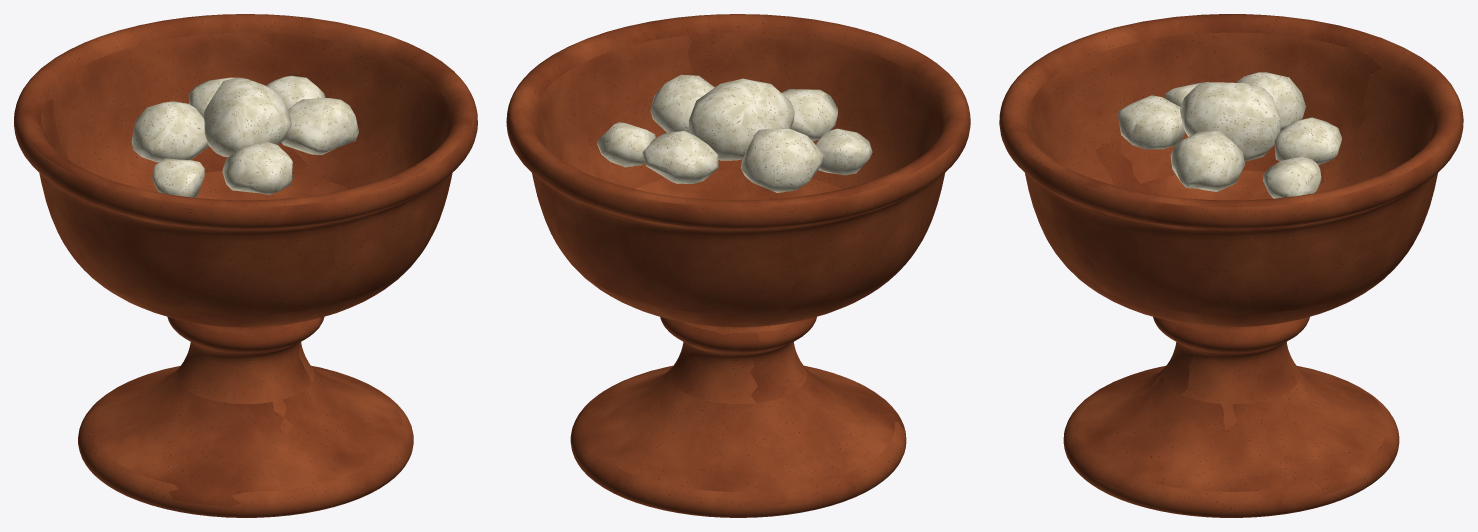
File: copalero.obj
3 renders of one model, left to right at view 1: azimuth 30°, elevation 25°; view 2: azimuth 150°, elevation 25°; view 3: azimuth 270°, elevation 25°, orthographic.
Parts seen in each view (by area): view 1: Copalero_Cuerpo, Copal_Trozos; view 2: Copalero_Cuerpo, Copal_Trozos; view 3: Copalero_Cuerpo, Copal_Trozos.
Part boxes in pixels (left/top/right/bottom): Copalero_Cuerpo: left=14, top=14, right=477, bottom=517; Copal_Trozos: left=131, top=75, right=358, bottom=197; Copalero_Cuerpo: left=506, top=14, right=970, bottom=517; Copal_Trozos: left=597, top=74, right=872, bottom=192; Copalero_Cuerpo: left=999, top=14, right=1463, bottom=517; Copal_Trozos: left=1118, top=72, right=1341, bottom=198.
Size of the model in its own units: 0.2741 by 0.2398 by 0.2741.
2 materials, 2 textured.
